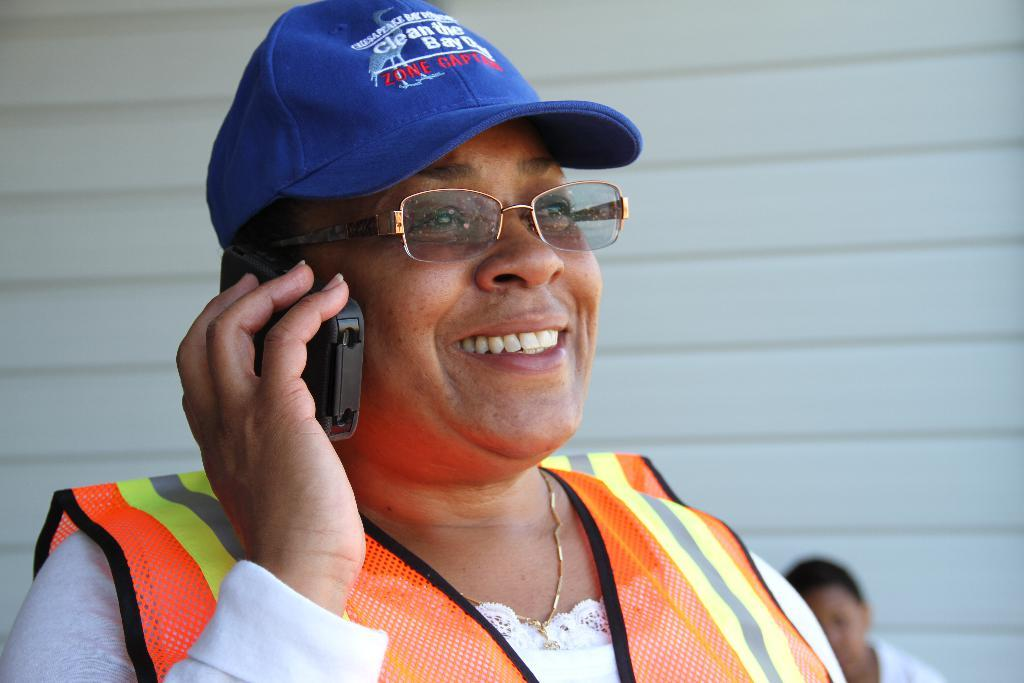Hat: (204, 0, 644, 251)
